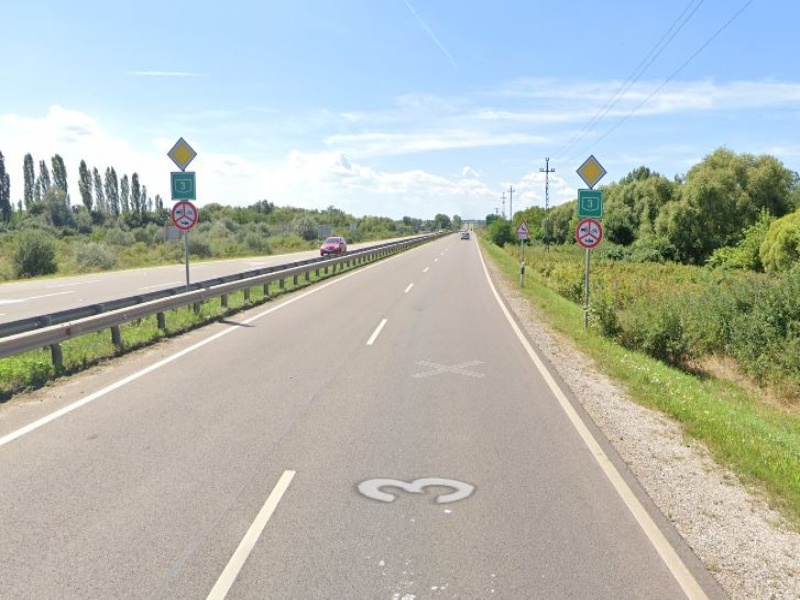fout: (576, 156, 609, 190), (166, 137, 197, 169)
